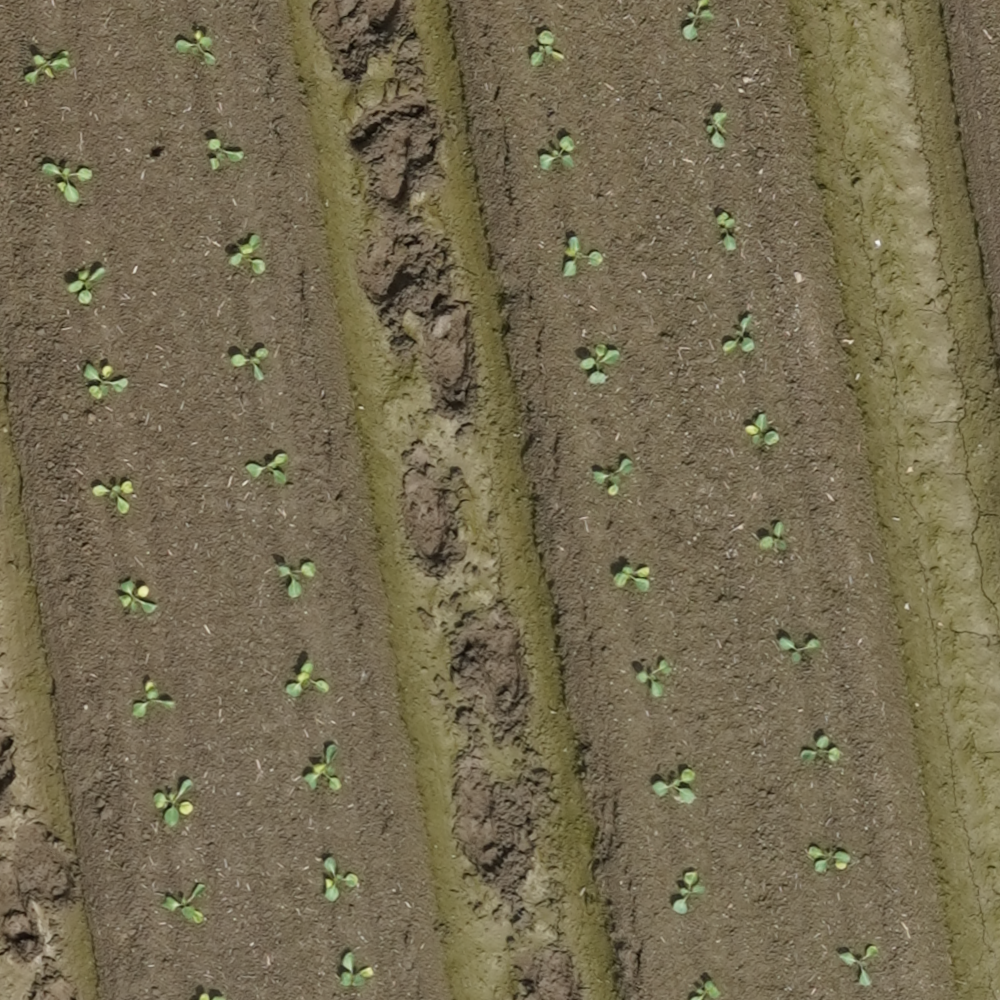Cabbage: (42, 162, 93, 203), (153, 778, 193, 827), (163, 882, 206, 925), (304, 743, 342, 791), (84, 363, 130, 400), (24, 50, 71, 86), (132, 683, 178, 719), (323, 857, 360, 901), (563, 237, 603, 277), (839, 946, 878, 987), (287, 660, 329, 698), (652, 769, 698, 803), (581, 345, 620, 385), (68, 267, 109, 305), (594, 459, 634, 497), (118, 581, 159, 617), (673, 871, 707, 914), (246, 452, 289, 486), (229, 235, 266, 274), (175, 30, 216, 65), (279, 561, 316, 599), (636, 661, 672, 697), (538, 136, 575, 171), (231, 349, 269, 383), (808, 844, 851, 874), (93, 481, 132, 514), (799, 734, 841, 764), (530, 31, 565, 67), (744, 414, 781, 447), (340, 953, 374, 988), (778, 638, 822, 665), (723, 314, 755, 351), (684, 0, 714, 39), (209, 138, 244, 170), (614, 566, 651, 592), (759, 521, 790, 552), (705, 111, 727, 150), (717, 213, 738, 251), (691, 981, 720, 1000), (199, 992, 226, 1000)
